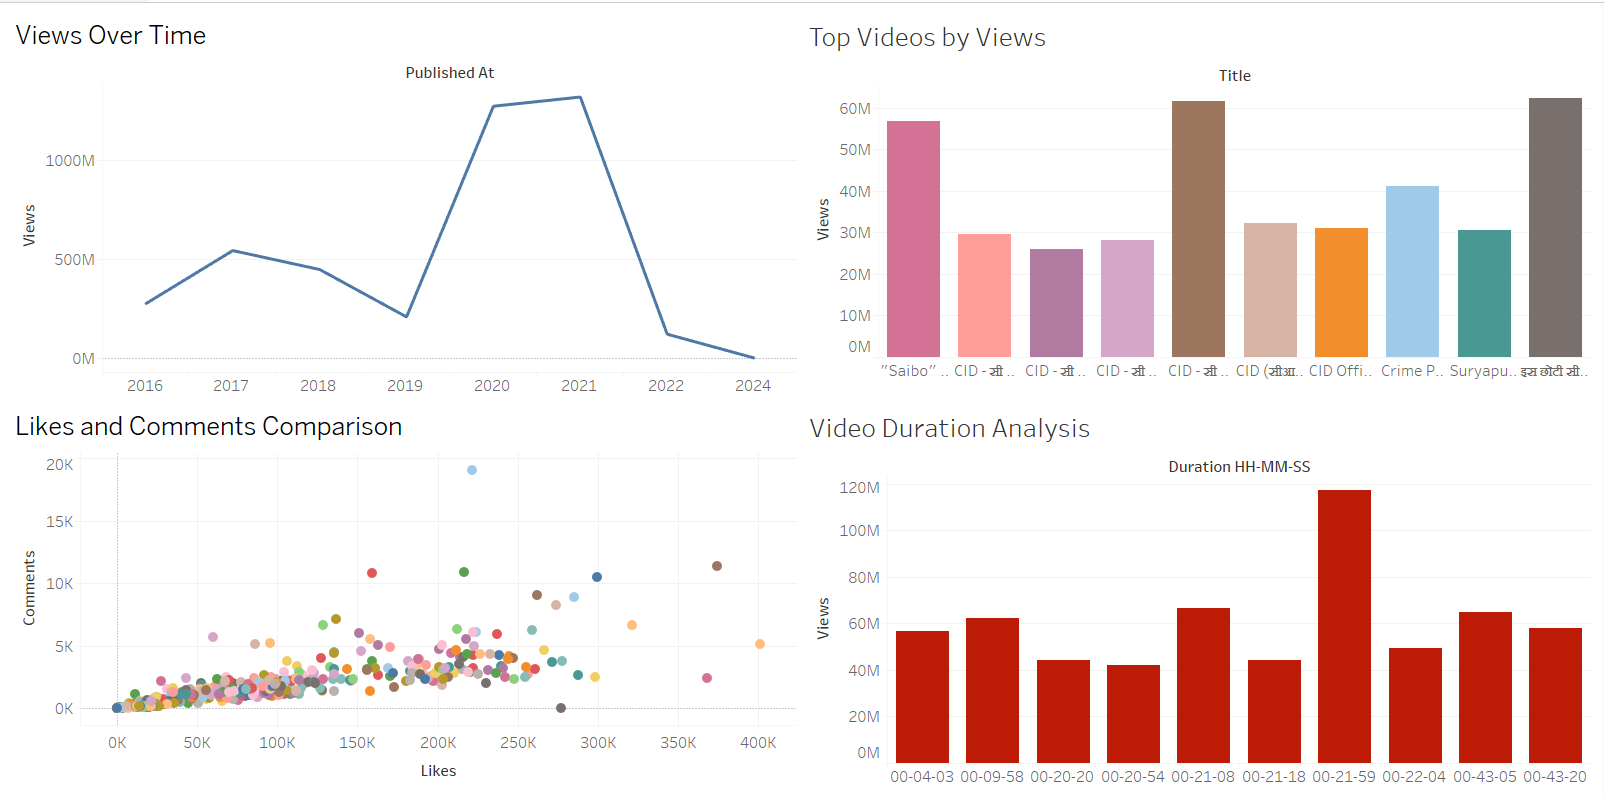

What the dashboard file says about the page in this screenshot:
{"tool":"tableau","page":{"name":"Dashboard 1","canvas":[1000,1000],"units":"permille","ordinal":0},"visuals":[{"type":"worksheet","title":"Views Over Time","mark":"Automatic","rows":["Views"],"cols":["Published At"],"box":[5,10,494.9,490]},{"type":"worksheet","title":"Top Videos by Views","mark":"Automatic","rows":["Views"],"cols":["Title"],"box":[499.9,10,495.1,490]},{"type":"worksheet","title":"Likes and Comments Comparison based on Title name","mark":"Circle","rows":["Comments"],"cols":["Likes"],"box":[5,500,494.9,490]},{"type":"worksheet","title":"Video Duration Analysis","mark":"Automatic","rows":["Views"],"cols":["Duration HH-MM-SS"],"box":[499.9,500,495.1,490]}]}

Visuals, with their boxes on the dashboard's canvas, which has no fixed pixel size, in thousandths of its width and height (x1, y1, x2, y2). These are canvas units, not pixel positions in the 1604x799 screenshot, which may show the page scaled, cropped or inside an application window:
"Views Over Time" worksheet: x1=5 y1=10 x2=500 y2=500
"Top Videos by Views" worksheet: x1=500 y1=10 x2=995 y2=500
"Likes and Comments Comparison based on Title name" worksheet (Circle marks): x1=5 y1=500 x2=500 y2=990
"Video Duration Analysis" worksheet: x1=500 y1=500 x2=995 y2=990
